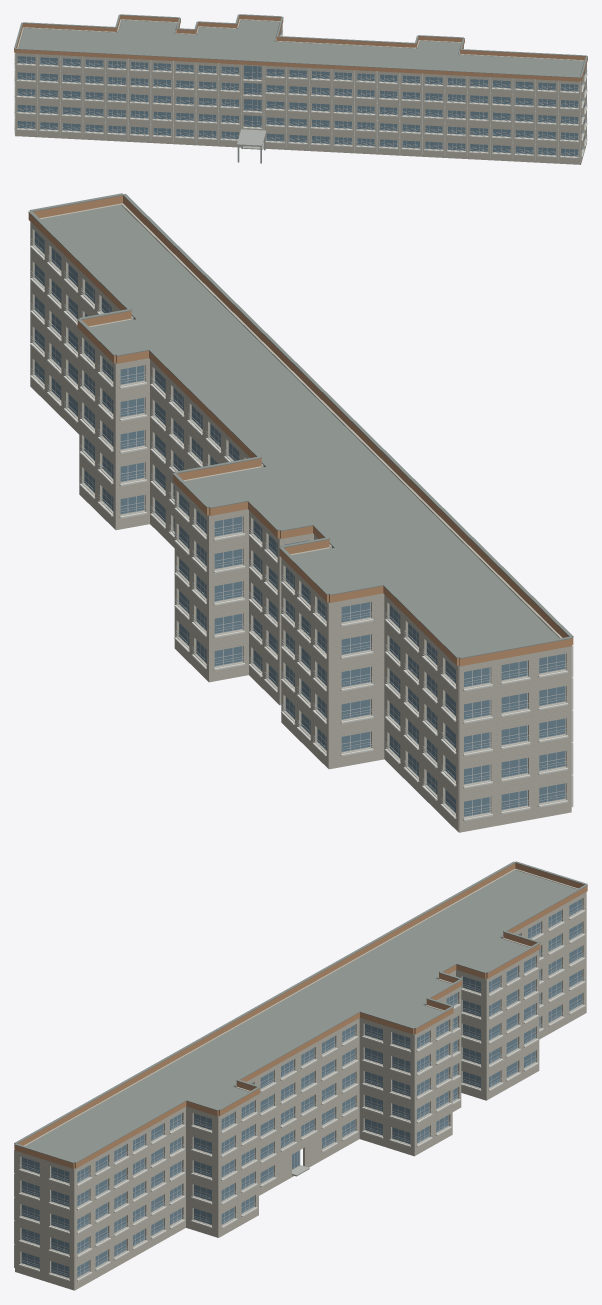
The picture shows the model from 3 angles, top to bottom: view 1: azimuth 30°, elevation 25°; view 2: azimuth 150°, elevation 25°; view 3: azimuth 270°, elevation 25°; orthographic projection. The views are drawn at different scales.
Parts seen in each view (by area): view 1: main__wall-tile, main__glass, main__roof, main__white, main__apricot, main__rail, main__front-frame, main__canopy, main__downpipe; view 2: main__wall-tile, main__roof, main__glass, main__apricot, main__white, main__frame, main__rail; view 3: main__wall-tile, main__roof, main__glass, main__apricot, main__frame, main__white, main__rail.
Part boxes in pixels (<box>): main__wall-tile: <box>15,19,586,164</box>; main__glass: <box>17,27,584,156</box>; main__roof: <box>14,14,587,77</box>; main__white: <box>14,34,587,162</box>; main__apricot: <box>14,15,587,81</box>; main__rail: <box>17,31,587,156</box>; main__front-frame: <box>18,57,578,156</box>; main__canopy: <box>237,129,266,163</box>; main__downpipe: <box>107,58,491,157</box>; main__wall-tile: <box>30,203,571,832</box>; main__roof: <box>28,193,573,658</box>; main__glass: <box>35,231,564,816</box>; main__apricot: <box>28,195,573,666</box>; main__white: <box>30,245,573,821</box>; main__frame: <box>34,231,565,817</box>; main__rail: <box>31,239,567,816</box>; main__wall-tile: <box>15,868,586,1290</box>; main__roof: <box>14,861,587,1163</box>; main__glass: <box>22,899,581,1277</box>; main__apricot: <box>14,863,587,1168</box>; main__frame: <box>21,899,582,1277</box>; main__white: <box>14,910,585,1281</box>; main__rail: <box>19,905,584,1278</box>.
Bounding box in the file's own units: 90.04 × 17.86 × 72.42.
Materials: 11 (1 with a texture image).
